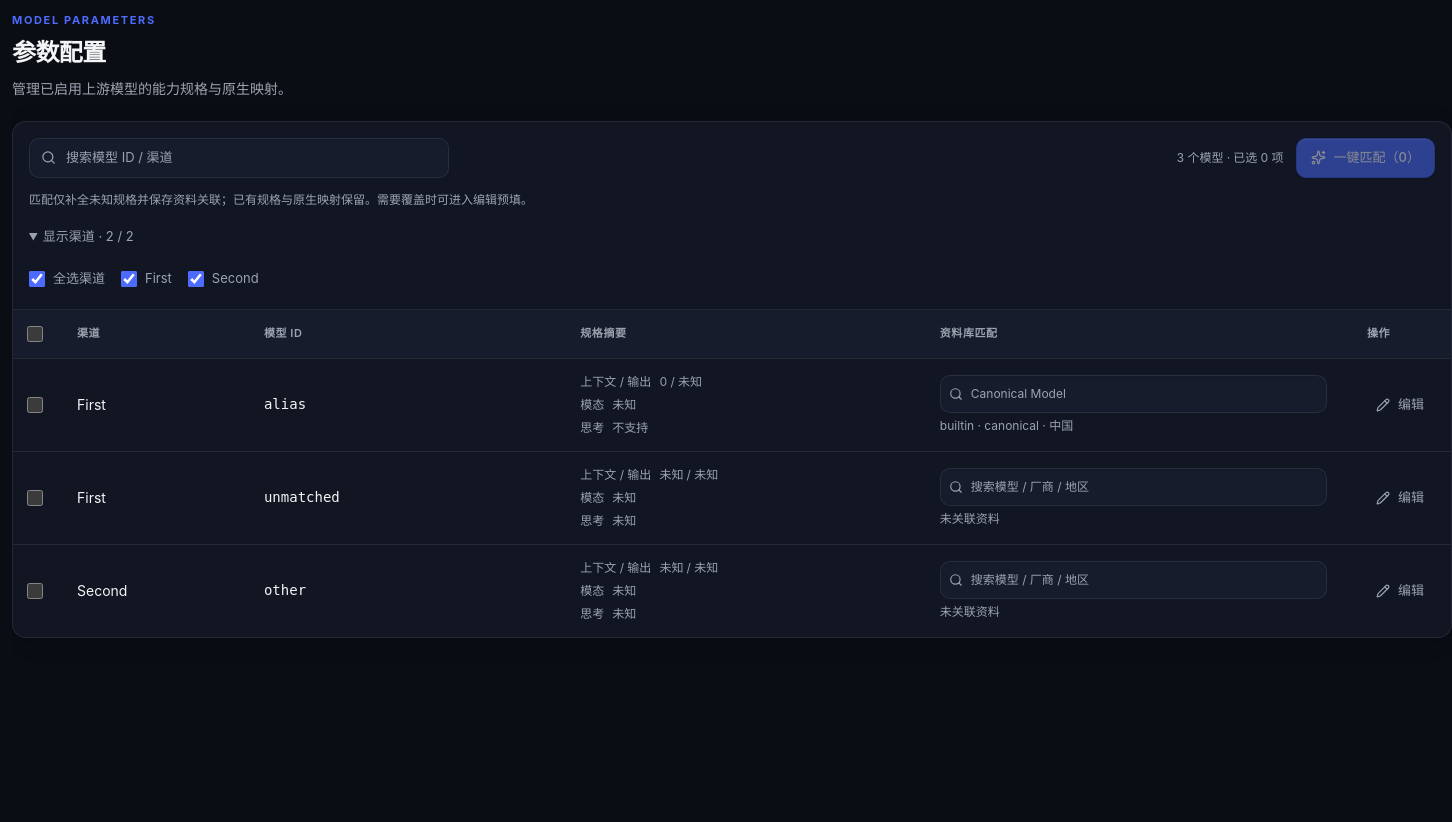
Test: reports unmatched models without applying a guessed alias or region
expect the dropdown named "搜索规格资料 1:alias" is shown: met, box [940, 375, 1327, 413]
Click the checkbox named "选择模型 1:unmatched": [35, 498] box [27, 490, 43, 506]
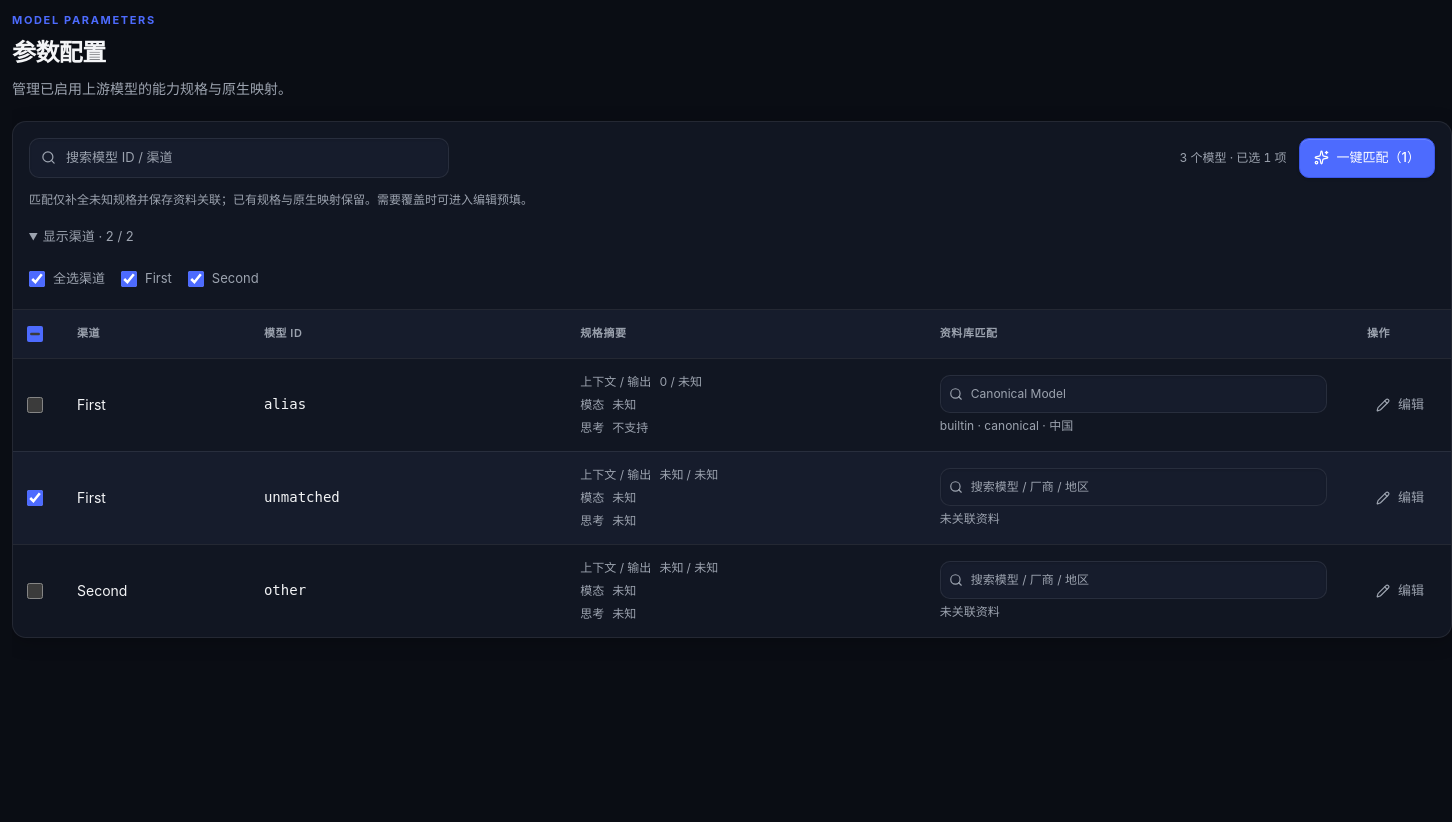
Click the button "一键匹配（1）": [1367, 158] box [1299, 138, 1435, 178]
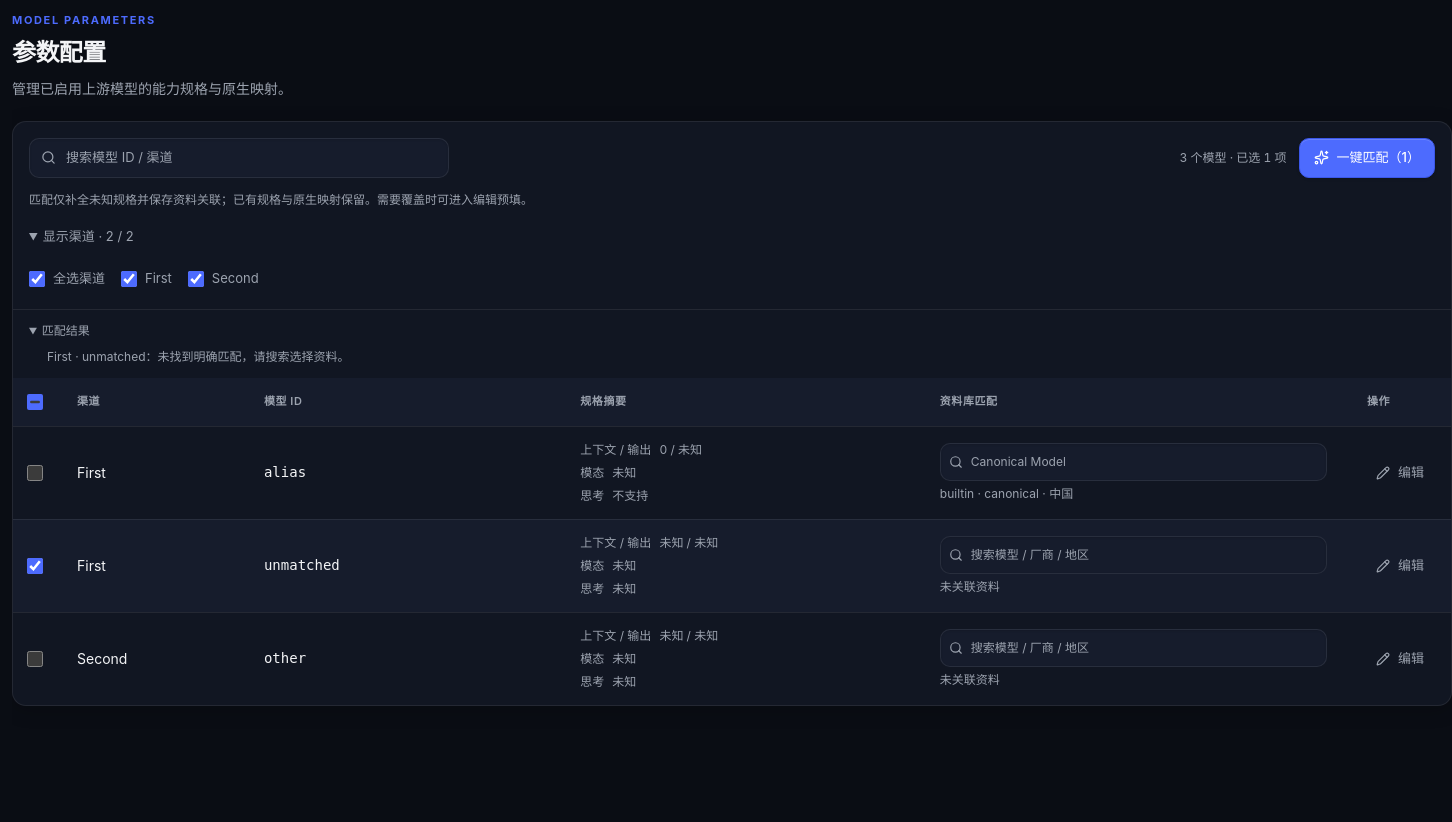
expect the list item "First · unmatched：未找到明确匹配，请搜索选择资料。" is shown: met, box [47, 349, 350, 364]
